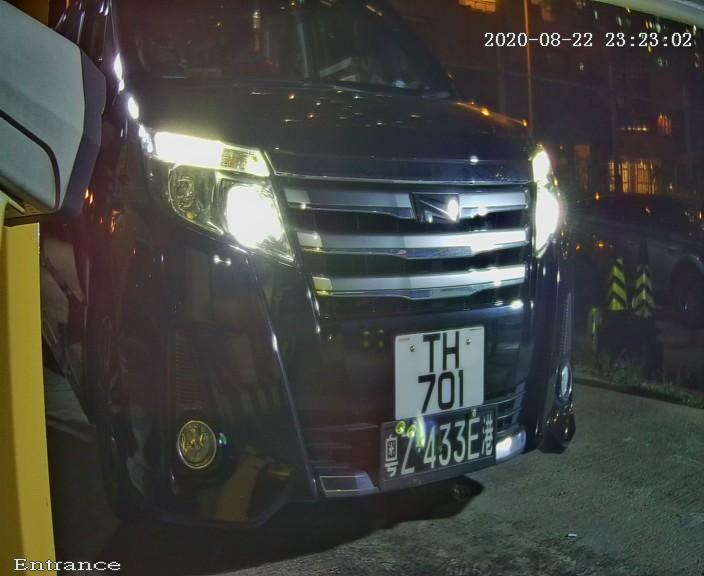License Plate: (360, 284, 511, 447)
